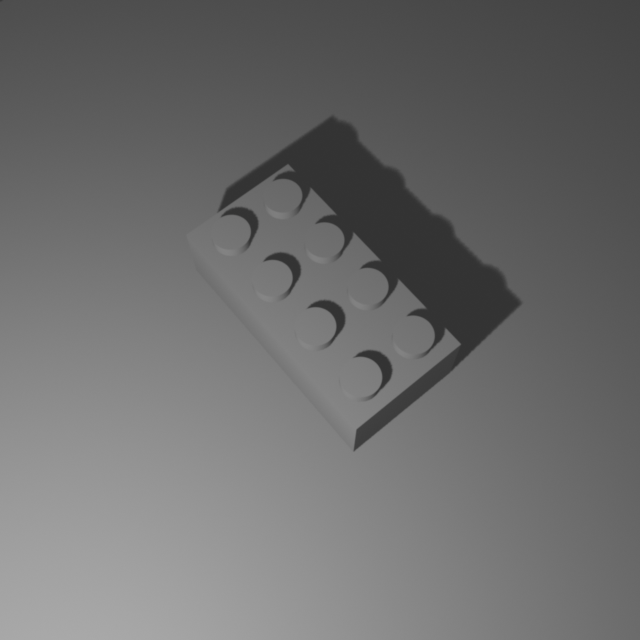lego_2x4: (184, 157, 463, 452)
